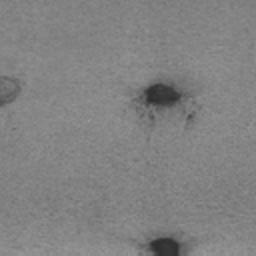Iron sheet ash: (139, 82, 186, 111), (147, 236, 185, 256), (0, 93, 13, 106)
